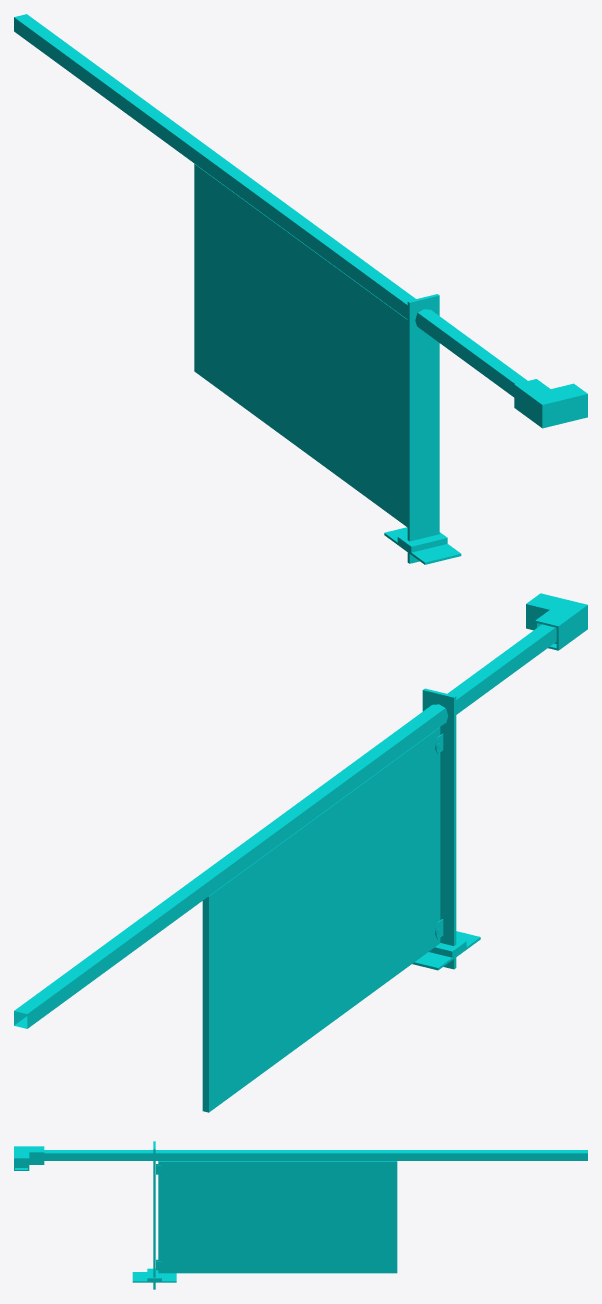
File: Barandal.fbx
The picture shows the model from 3 angles, top to bottom: view 1: azimuth 30°, elevation 25°; view 2: azimuth 150°, elevation 25°; view 3: azimuth 270°, elevation 25°; orthographic projection. The views are drawn at different scales.
Visible parts, largest first — view 1: cristal, barandal, divisor, metal; view 2: cristal, barandal, divisor, metal; view 3: cristal, barandal, divisor, metal.
Boxes of the visible parts, x1,y1,x2,y2 form: cristal: [194, 164, 407, 527]; barandal: [14, 14, 527, 397]; divisor: [384, 294, 461, 564]; metal: [514, 379, 587, 428]; cristal: [202, 727, 440, 1112]; barandal: [14, 624, 556, 1028]; divisor: [412, 688, 480, 970]; metal: [526, 593, 587, 650]; cristal: [158, 1161, 397, 1273]; barandal: [44, 1150, 587, 1160]; divisor: [132, 1141, 176, 1289]; metal: [14, 1146, 44, 1170].
Bounding box in the file's own units: 1.45 × 6.85 × 25.39.
